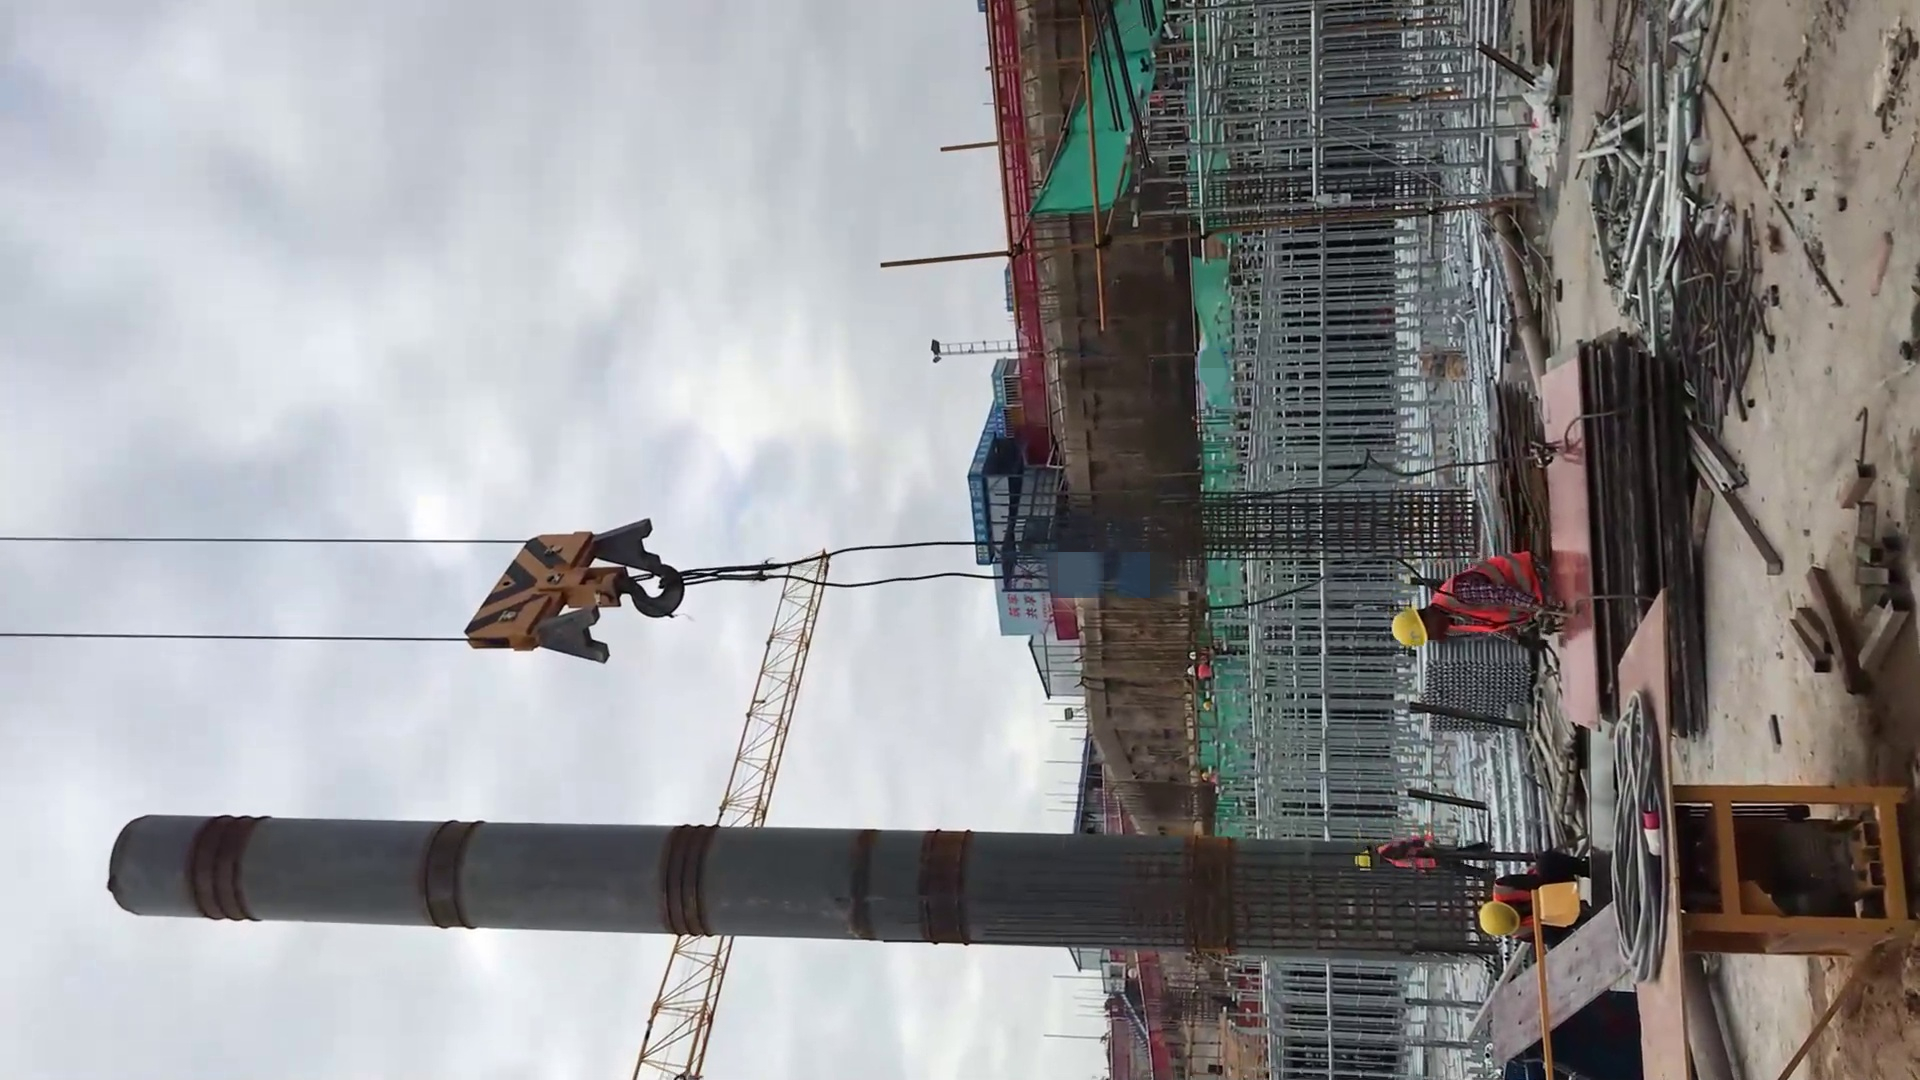board: (1542, 322, 1709, 741), (1481, 383, 1555, 553)
cutter: (1532, 587, 1917, 1080)
helmet: (1477, 899, 1521, 938), (1390, 606, 1428, 649), (1353, 847, 1372, 874), (1187, 664, 1196, 678), (1188, 650, 1196, 661)
hook: (463, 517, 688, 666)
hopper: (1497, 987, 1647, 1080)
person: (1387, 547, 1558, 649), (1477, 849, 1592, 945), (1353, 836, 1493, 882), (1185, 664, 1216, 680)
scaffold: (1415, 643, 1533, 736)
slogan: (967, 358, 1006, 565), (999, 562, 1044, 628)
vest: (1427, 551, 1545, 636), (1493, 877, 1535, 931), (1376, 839, 1437, 870), (1197, 664, 1213, 681)
